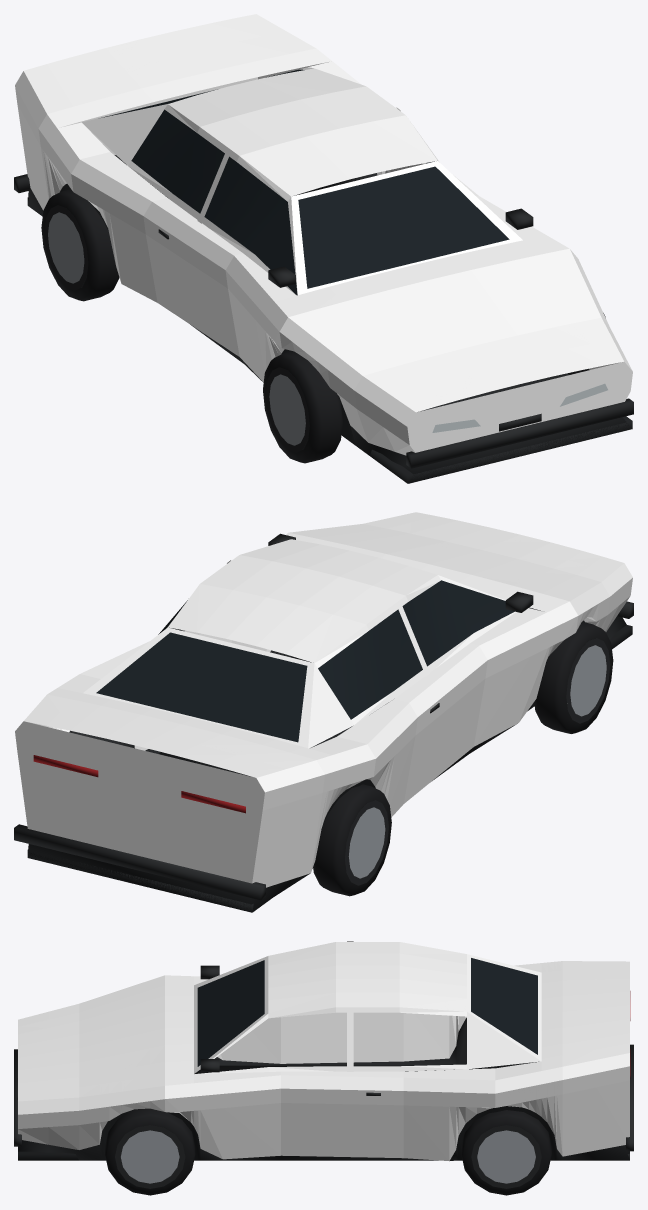
Rendered from ashcombe_arisco.glb.
3 views of the same model, one above another, from view 1: azimuth 30°, elevation 25°; view 2: azimuth 150°, elevation 25°; view 3: azimuth 270°, elevation 25° (orthographic). The views are drawn at different scales.
Parts seen in each view (by area): view 1: Body_Paint, Body_Details, Mount_FrontLeft_Wheel_Details, Mount_RearLeft_Wheel_Details; view 2: Body_Paint, Body_Details, Mount_RearLeft_Wheel_Details, Mount_FrontLeft_Wheel_Details; view 3: Body_Paint, Body_Details, Mount_FrontRight_Wheel_Details, Mount_RearRight_Wheel_Details.
Boxes of the visible parts, left/top/right/bottom form: Body_Paint: left=15, top=14, right=632, bottom=455; Body_Details: left=14, top=69, right=633, bottom=483; Mount_FrontLeft_Wheel_Details: left=263, top=351, right=342, bottom=463; Mount_RearLeft_Wheel_Details: left=41, top=189, right=119, bottom=301; Body_Paint: left=15, top=512, right=632, bottom=887; Body_Details: left=14, top=533, right=633, bottom=912; Mount_RearLeft_Wheel_Details: left=313, top=784, right=391, bottom=896; Mount_FrontLeft_Wheel_Details: left=534, top=621, right=613, bottom=733; Body_Paint: left=18, top=941, right=629, bottom=1160; Body_Details: left=14, top=958, right=633, bottom=1160; Mount_FrontRight_Wheel_Details: left=105, top=1108, right=195, bottom=1195; Mount_RearRight_Wheel_Details: left=461, top=1110, right=551, bottom=1195.
Size of the model in its own units: 1.94 by 1.26 by 4.24.
2 materials, 1 textured.
